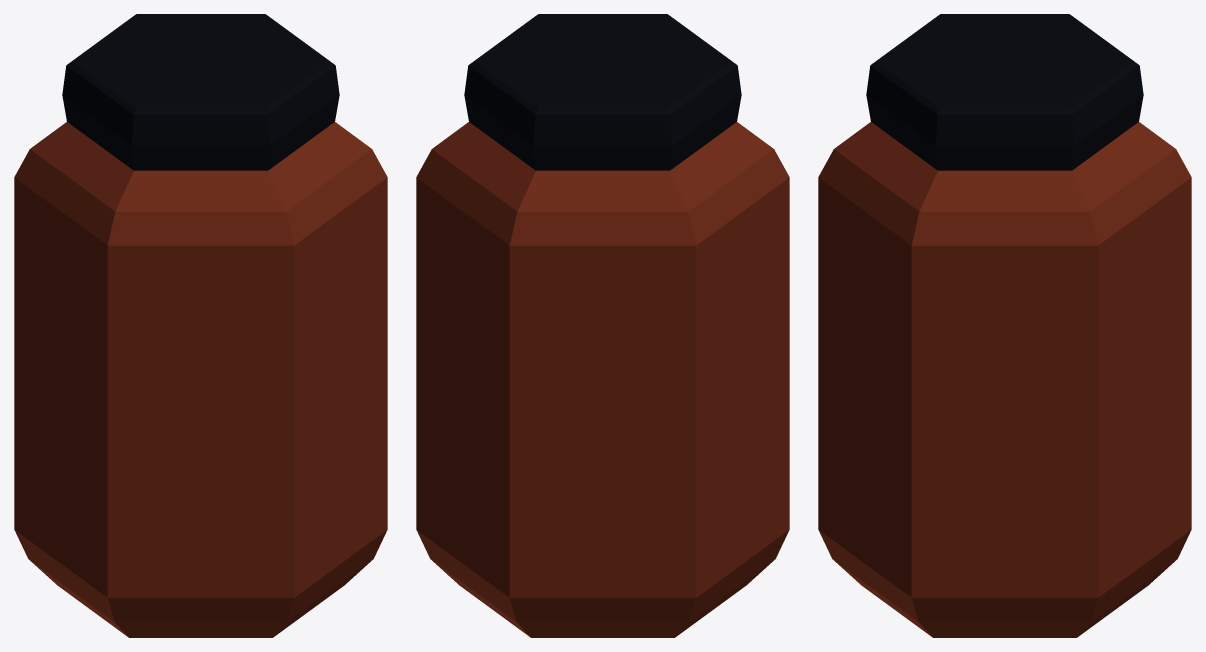
The model's file is Protein1.glb.
The picture shows the model from 3 angles, left to right: view 1: azimuth 30°, elevation 25°; view 2: azimuth 150°, elevation 25°; view 3: azimuth 270°, elevation 25°; orthographic projection.
Visible parts, largest first — view 1: Protein1; view 2: Protein1; view 3: Protein1.
Boxes of the visible parts, x1,y1,x2,y2 form: Protein1: [14, 14, 387, 637]; Protein1: [416, 14, 789, 637]; Protein1: [818, 14, 1191, 637].
Bounding box in the file's own units: 0.1504 × 0.269 × 0.1736.
